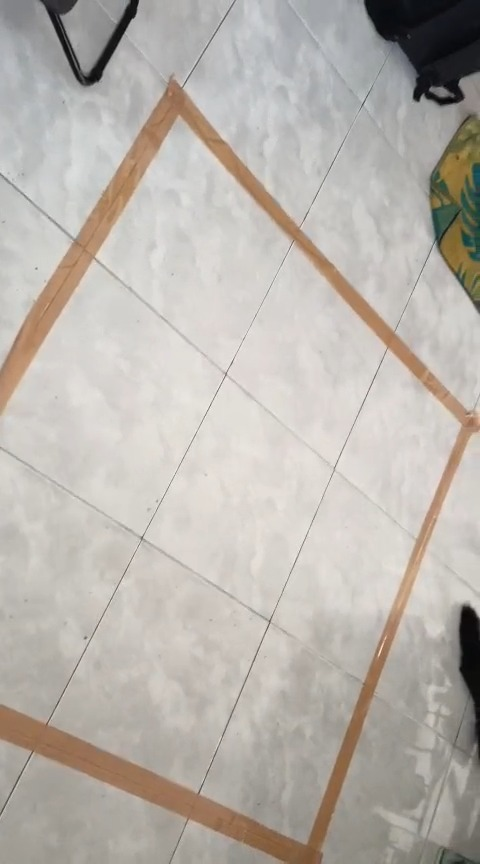floor marking: (0, 79, 479, 863)
